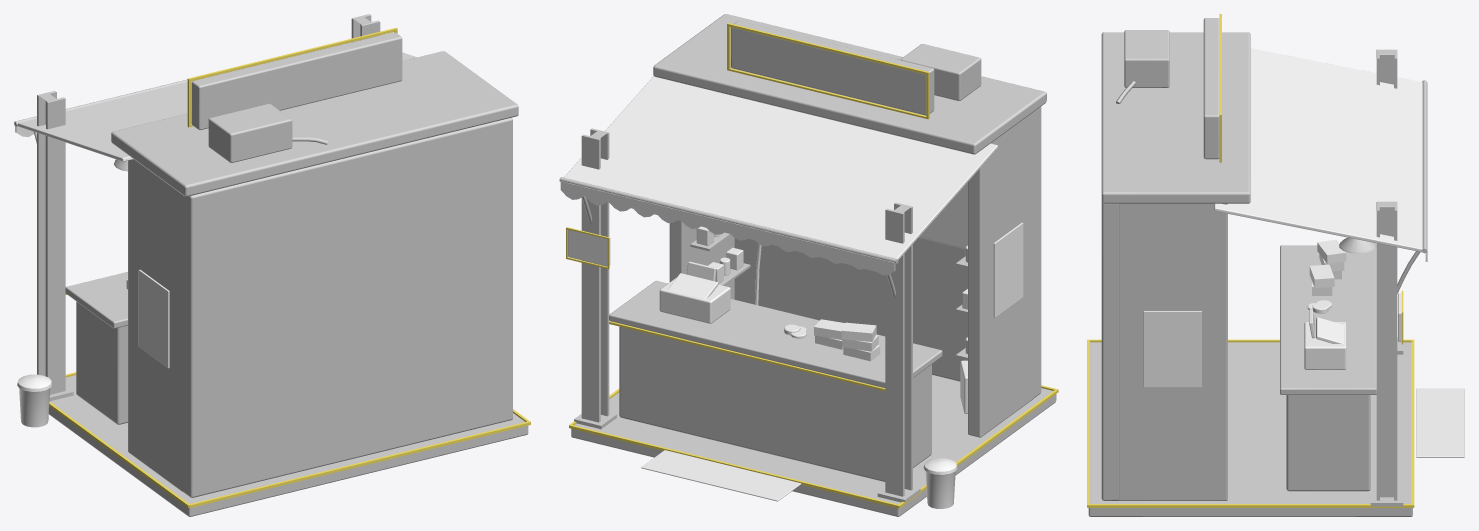
Rendered from ShopKiosk.glb.
3 views of the same model, side by side, from view 1: azimuth 30°, elevation 25°; view 2: azimuth 150°, elevation 25°; view 3: azimuth 270°, elevation 25° (orthographic). The views are drawn at different scales.
Visible parts, largest first — view 1: Structure, Awning, Props, Glow; view 2: Structure, Awning, Props, Glow, Screen; view 3: Structure, Awning, Props, Glow.
Part boxes in pixels (bbox=[...]): Structure: bbox=[14, 14, 528, 516]; Awning: bbox=[15, 42, 416, 161]; Props: bbox=[17, 269, 169, 427]; Glow: bbox=[49, 28, 530, 508]; Structure: bbox=[559, 14, 1056, 516]; Awning: bbox=[560, 76, 997, 275]; Props: bbox=[568, 222, 1023, 508]; Glow: bbox=[566, 23, 1058, 508]; Screen: bbox=[755, 182, 967, 305]; Structure: bbox=[1088, 18, 1427, 516]; Awning: bbox=[1214, 48, 1427, 261]; Props: bbox=[1143, 239, 1464, 457]; Glow: bbox=[1087, 14, 1414, 507].
Size of the model in its own units: 13.47 by 12.62 by 11.64.
